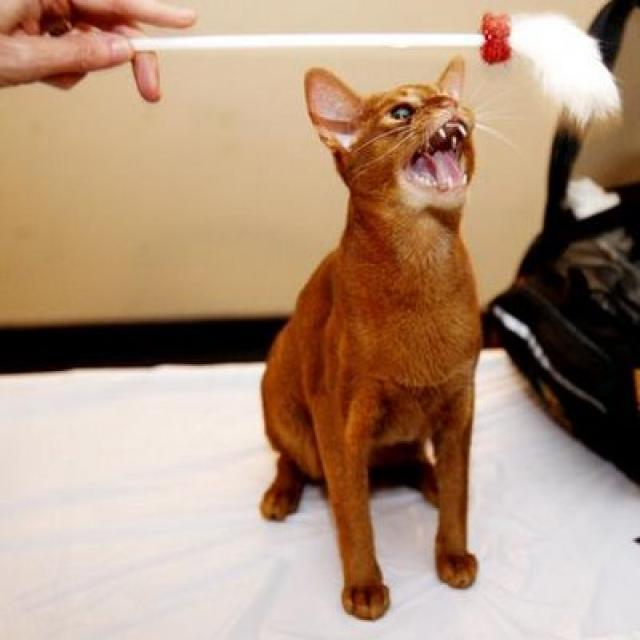Abyssinian: (298, 49, 493, 224)
